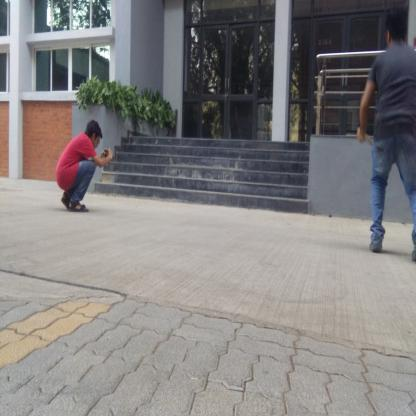stairs: (127, 139, 304, 209)
